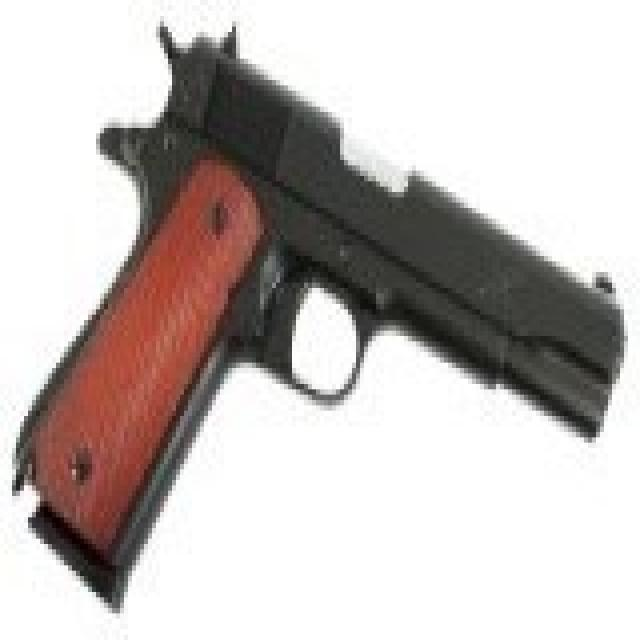Gun: (9, 3, 630, 607)
